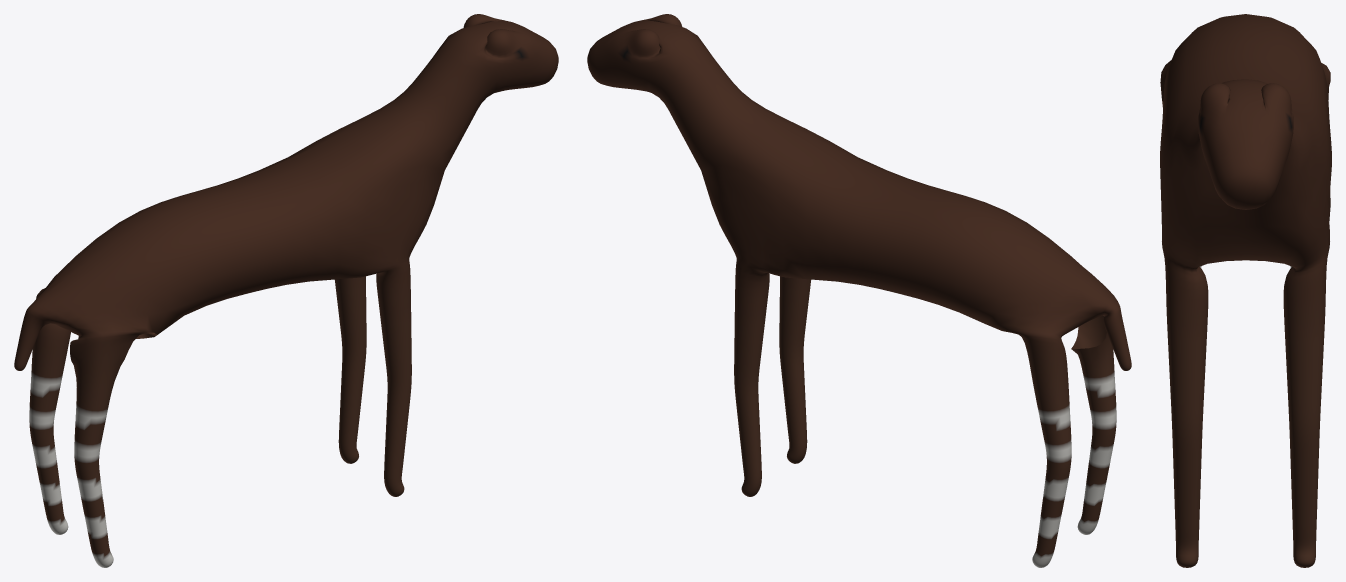
File: okapi.glb
The picture shows the model from 3 angles, left to right: view 1: azimuth 30°, elevation 25°; view 2: azimuth 150°, elevation 25°; view 3: azimuth 270°, elevation 25°; orthographic projection. The views are drawn at different scales.
Visible parts, largest first — view 1: okapi; view 2: okapi; view 3: okapi.
Part boxes in pixels (box(x1,y1,x2,y2)): okapi: box(14, 14, 558, 567); okapi: box(587, 14, 1131, 567); okapi: box(1160, 14, 1331, 567).
Size of the model in its own units: 3.07 by 2.33 by 0.654.
